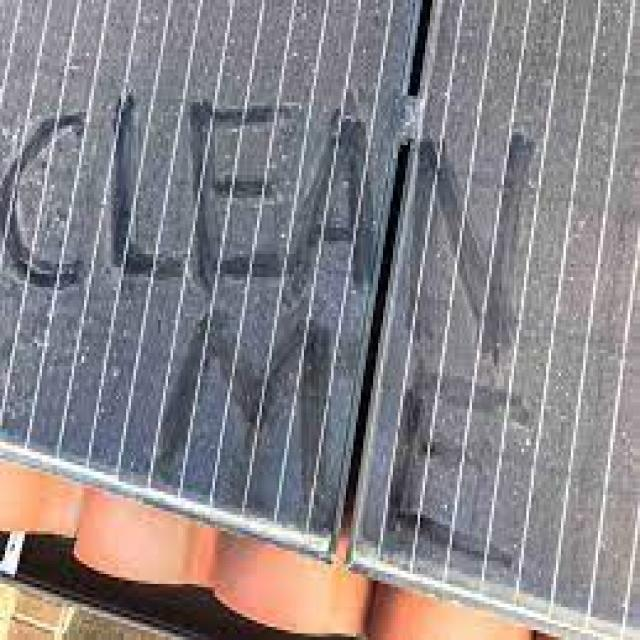faulty: (19, 0, 640, 485)
